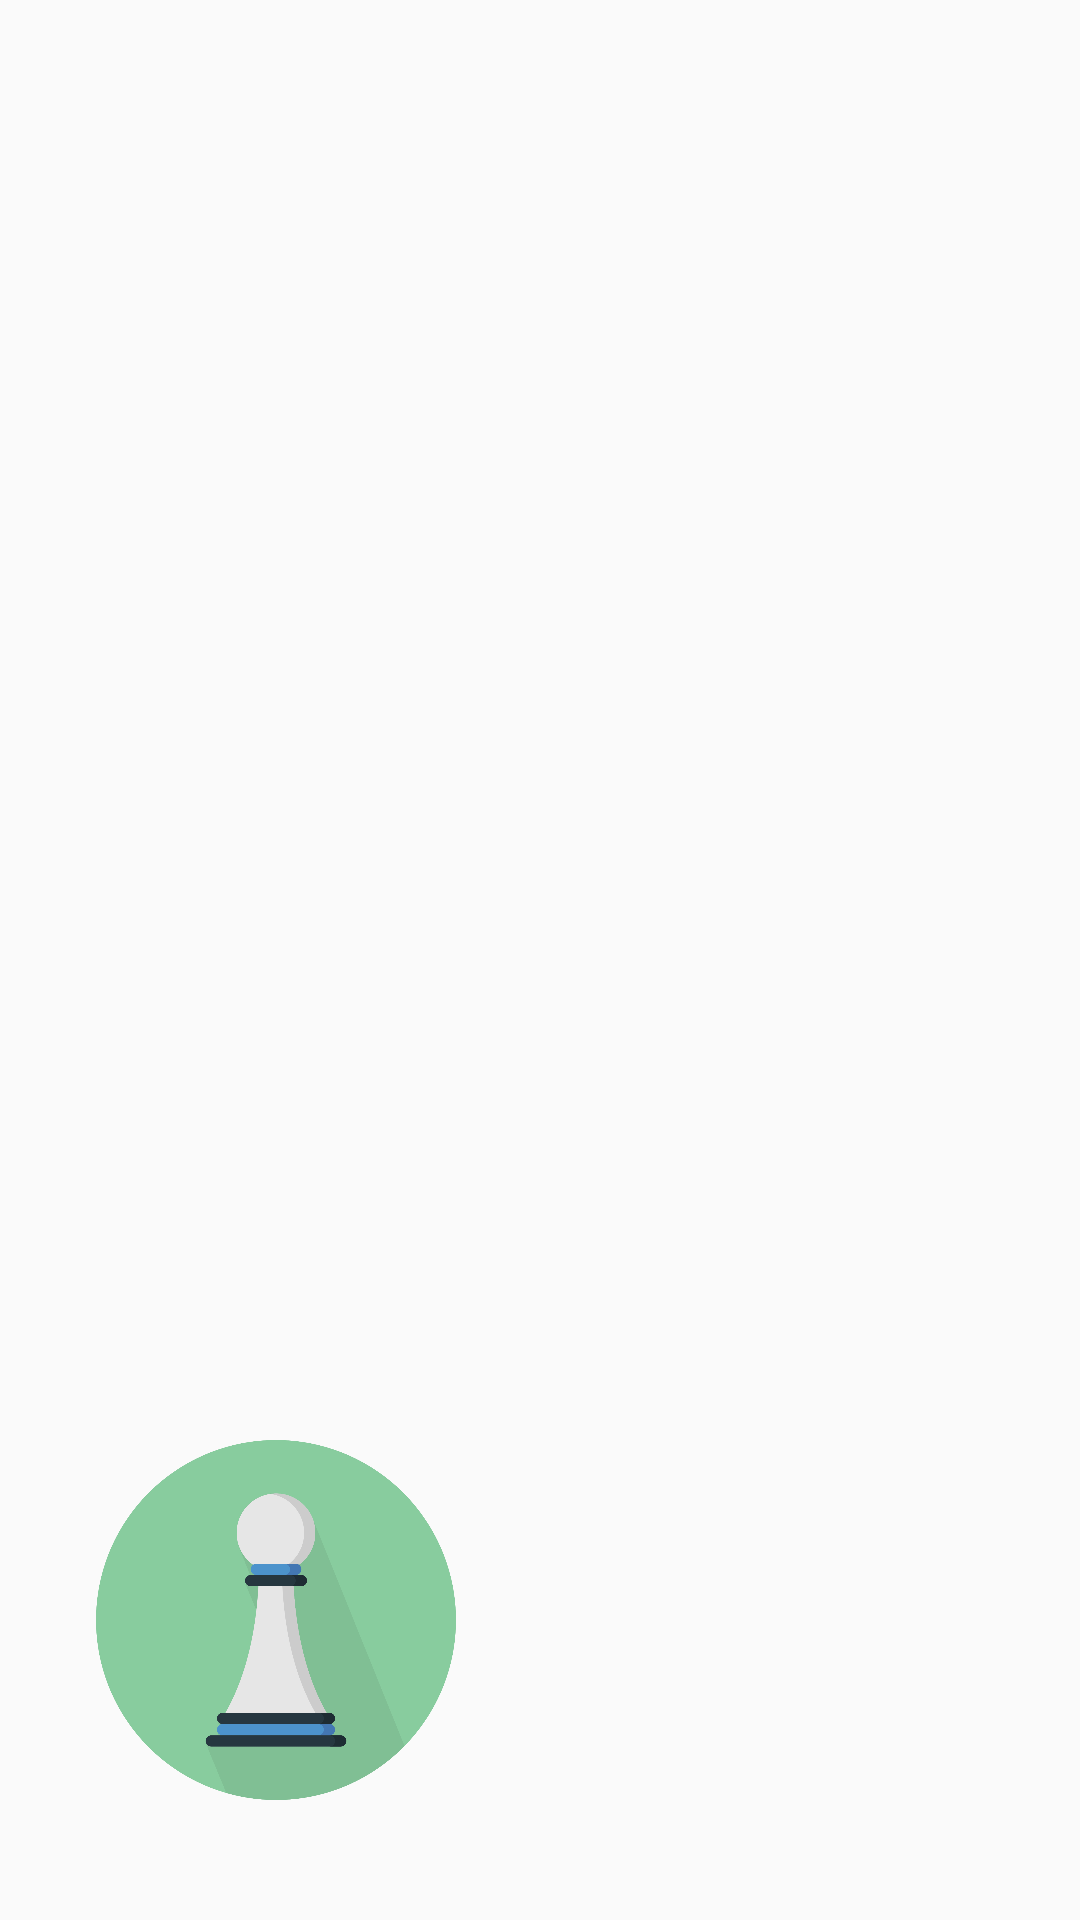

Named icons in this screenshot (1080×1920) and their bounding boxes, (x1, y1, x2, y2):
player: (96, 1440, 456, 1800)
